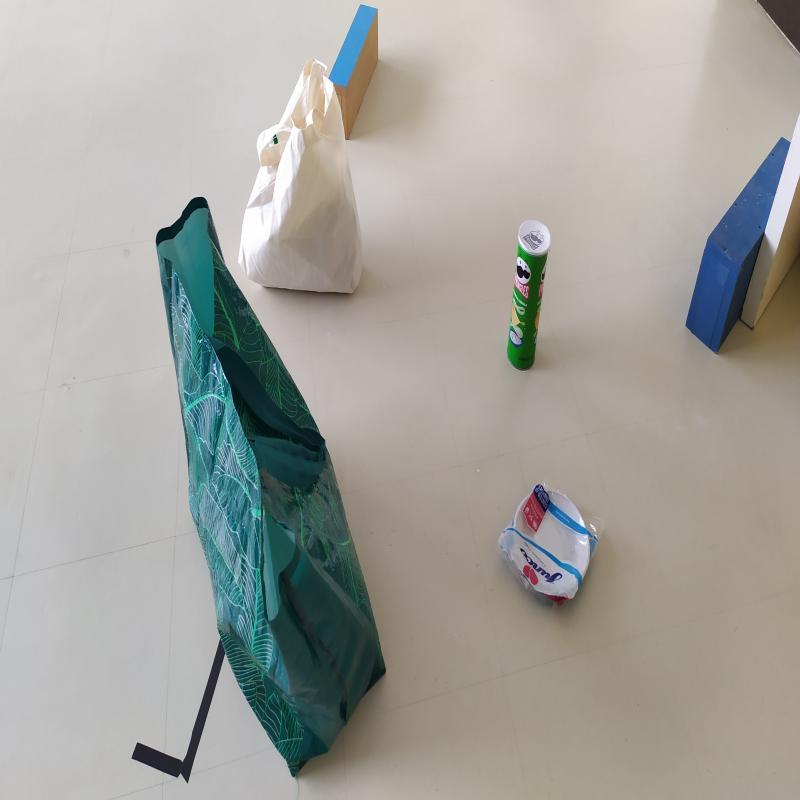Bag: (152, 205, 380, 782), (240, 56, 368, 294)
Plate: (510, 486, 594, 604)
Pringles: (505, 224, 550, 368)
